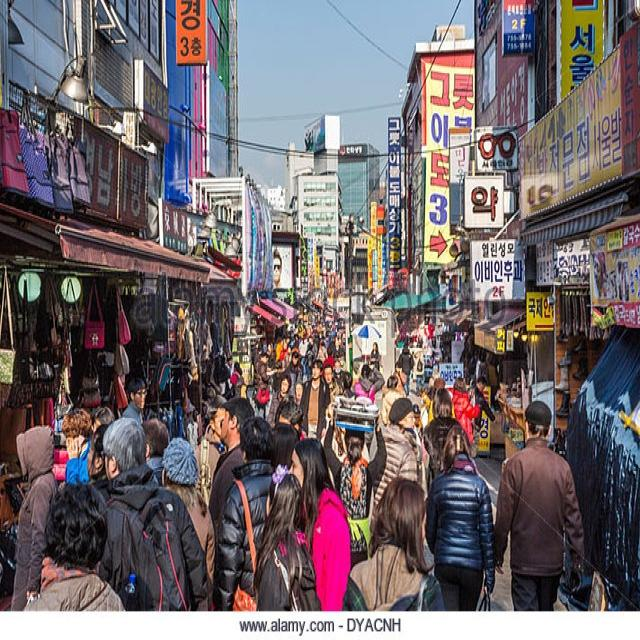body: (87, 412, 214, 638), (491, 396, 588, 638), (6, 474, 142, 638), (341, 476, 448, 638), (423, 425, 498, 613), (215, 415, 276, 613), (286, 435, 353, 613), (321, 398, 387, 571), (251, 468, 323, 613), (160, 436, 216, 612), (9, 424, 58, 613), (369, 395, 423, 508), (421, 385, 472, 493), (193, 392, 229, 506), (197, 293, 231, 381), (60, 405, 96, 488), (468, 374, 497, 469), (300, 358, 331, 442), (139, 416, 171, 486), (451, 376, 481, 446), (163, 372, 196, 434), (437, 324, 477, 375), (85, 421, 113, 490), (282, 309, 347, 336), (352, 361, 386, 406), (253, 351, 274, 422), (269, 372, 294, 431), (121, 377, 148, 428), (379, 374, 405, 426), (486, 348, 502, 412), (408, 338, 426, 394), (396, 342, 415, 390), (331, 358, 350, 394), (411, 313, 437, 338), (229, 361, 245, 399), (88, 404, 115, 426), (264, 339, 277, 384), (425, 338, 438, 382), (284, 349, 305, 376), (518, 348, 530, 391), (298, 334, 311, 372), (270, 248, 283, 285), (474, 351, 489, 382), (279, 340, 290, 380), (338, 371, 354, 396), (369, 341, 381, 371), (273, 335, 283, 371), (307, 334, 319, 364), (292, 381, 304, 409), (329, 336, 345, 356), (204, 385, 218, 407), (318, 341, 329, 364), (398, 318, 407, 346), (324, 349, 336, 368), (251, 340, 261, 360), (287, 335, 298, 351), (305, 342, 312, 355)
